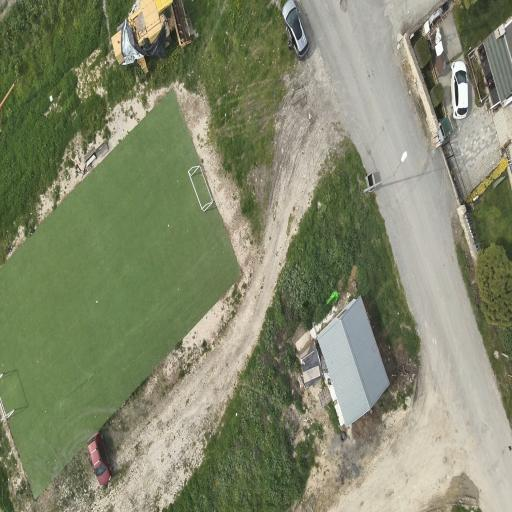car: (283, 0, 309, 58), (88, 432, 111, 486), (451, 61, 468, 119)
harvester: (111, 0, 194, 73)
